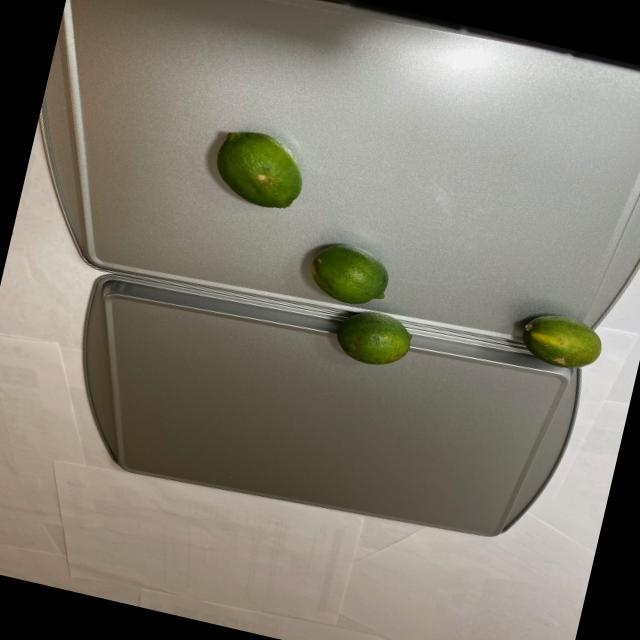lemon: (292, 236, 435, 374), (202, 112, 313, 215), (518, 306, 610, 378)
